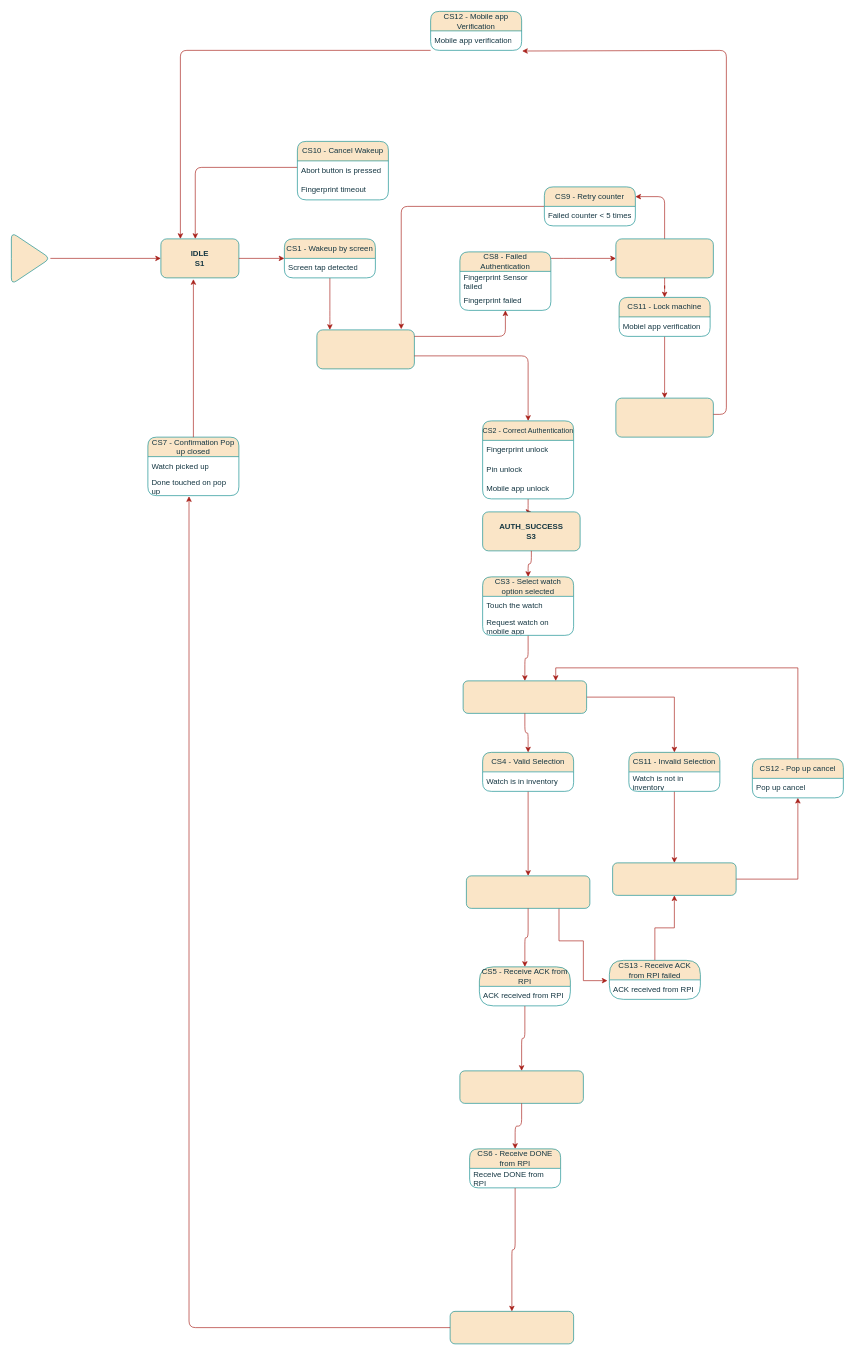
Some shapes in this 855 by 1355 pixel diagram are drawn without their labels. The shapes that lost their labels are listed below. From the top down, each one's centre as x and y in pixels, then its label:
At point (30, 258): "Start".
At point (664, 258): "AUTH_FAILED S8".
At point (365, 349): "WAITING_FOR_AUTH S2".
At point (664, 417): "LOCKED S9".
At point (524, 696): "SELECTION_IN_PROGRESS S4".
At point (528, 891): "SELECTION_REQUESTED S5".
At point (674, 878): "WATCH_SELECT_REQ_FAILED S10".
At point (521, 1086): "COMMAND_IN_PROGRESS S6".
At point (511, 1327): "COMMAND_DONE S7".
